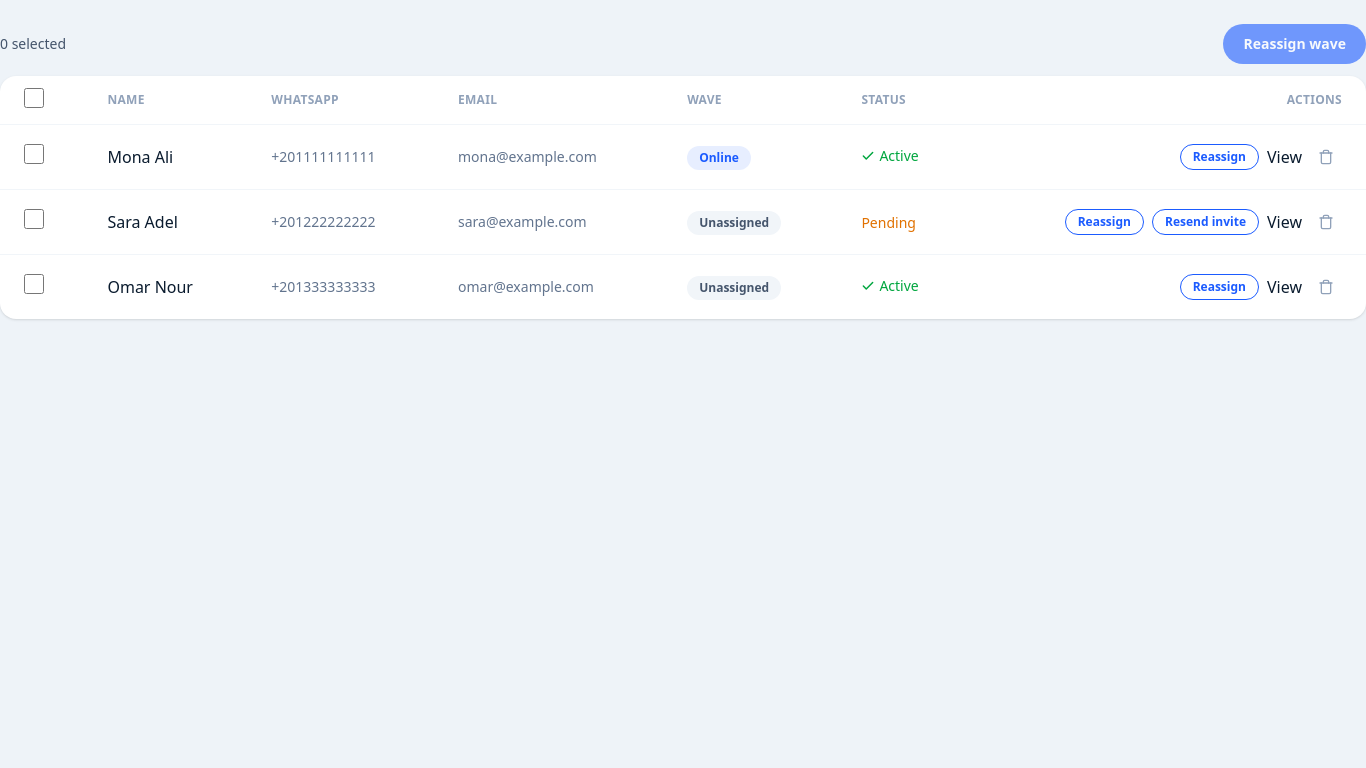
Test: MemberTable — reassign selection › the toolbar button is disabled with nothing selected and opens the modal with the selection
This screenshot has width=1366, height=768.
Expected: the button "Reassign wave" is disabled, left=1224, top=24, right=1365, bottom=64
What coordinates should you click on to do the following:
click the checkbox named "Select all unassigned members"
I would click on:
 (34, 98)
Its box is left=24, top=88, right=44, bottom=108.
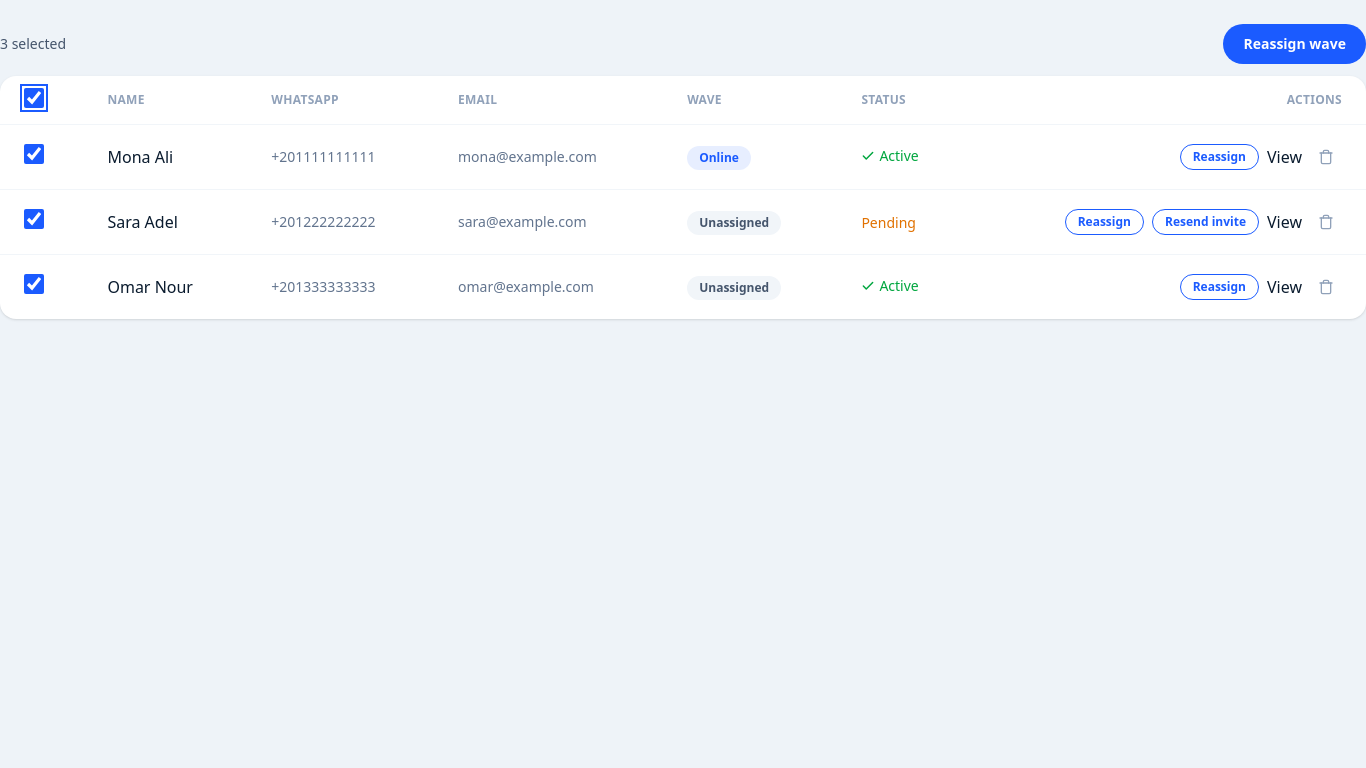
Expected: the button "Reassign wave" is enabled
What coordinates should you click on to do the following:
click the button "Reassign wave"
I would click on:
 (1295, 44)
Its box is left=1224, top=24, right=1365, bottom=64.
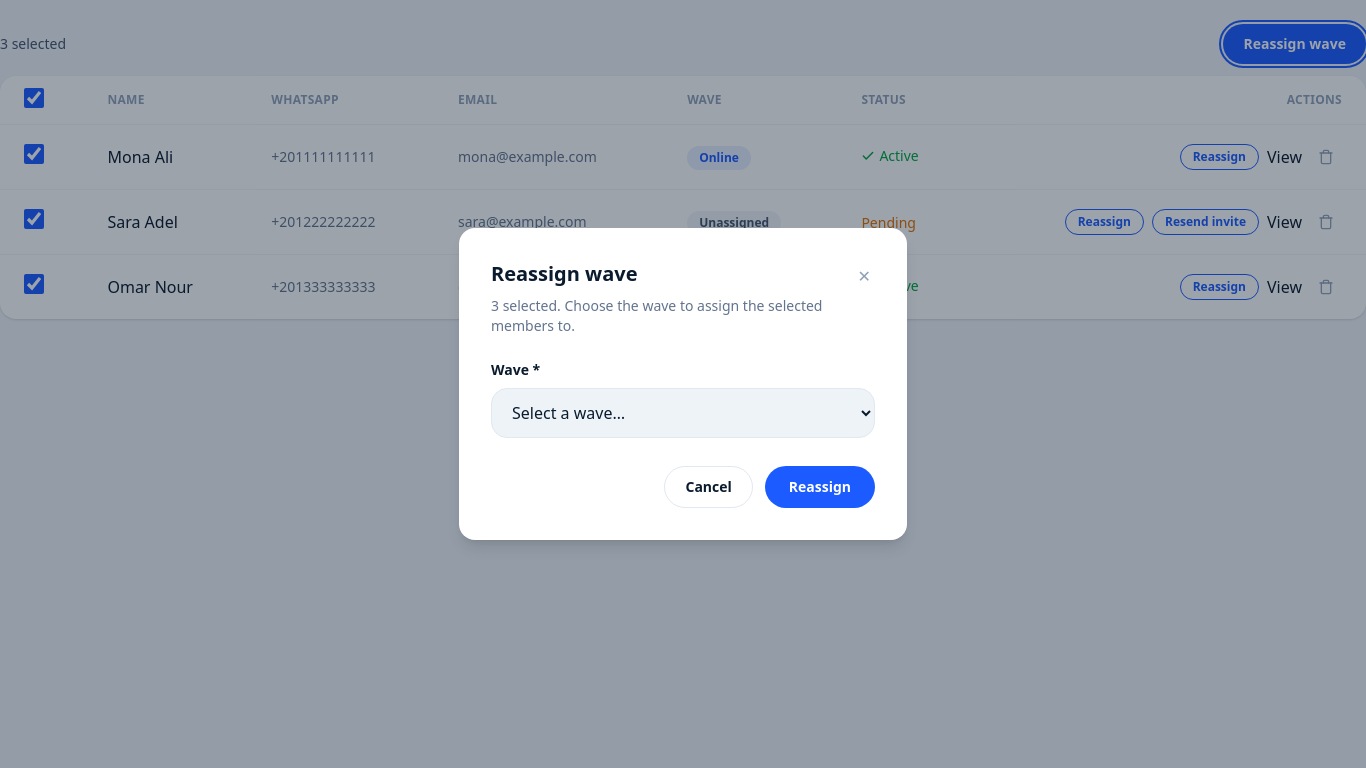
Expected: the heading "Reassign wave" is shown, left=491, top=260, right=638, bottom=288
